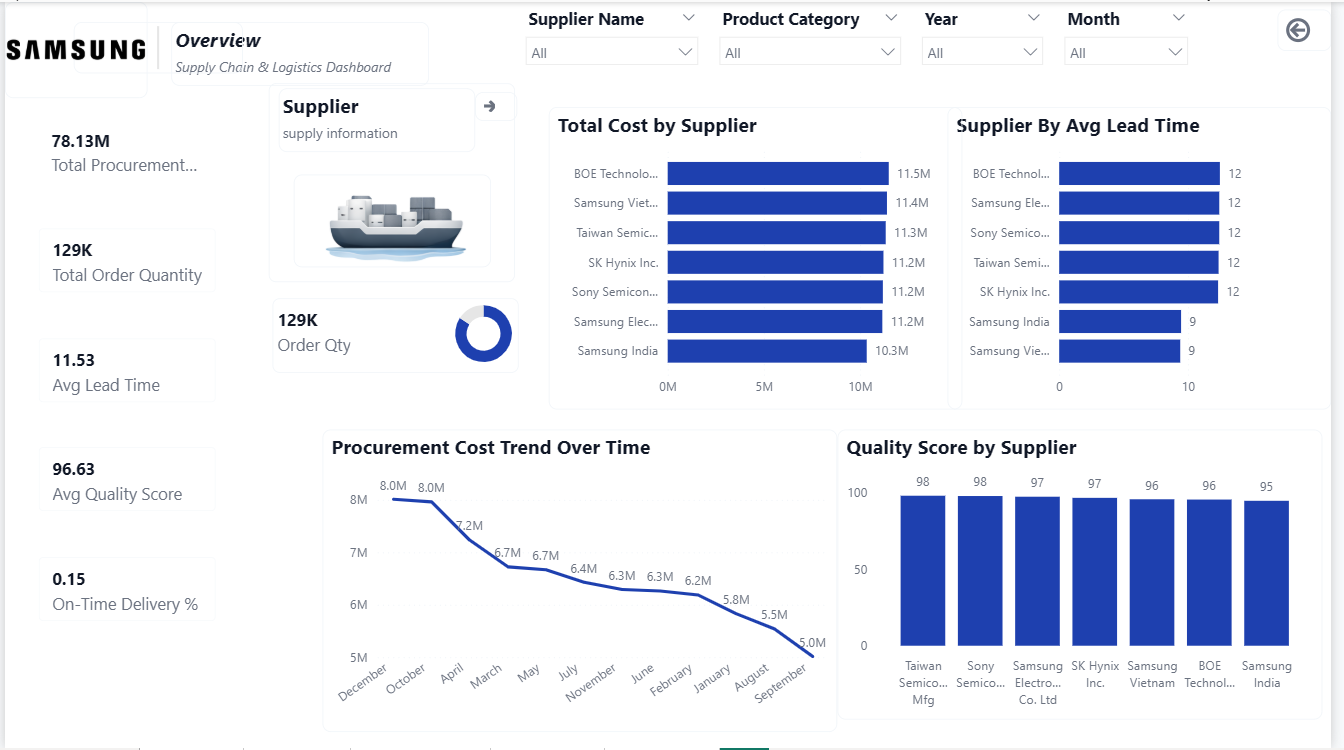

What the dashboard file says about the page in this screenshot:
{"tool":"powerbi","page":{"name":"Supplier","canvas":[1280,720],"ordinal":1},"visuals":[{"type":"shape","box":[254.6,78.4,237.7,191.8],"z":0},{"type":"image","box":[278.7,166.5,190.6,89.3],"z":1000},{"type":"actionButton","box":[453.6,86.9,41,27.7],"z":2000},{"type":"shape","title":"Supplier","box":[264.2,83.2,189.4,61.5],"z":3000},{"type":"shape","title":"Overview","box":[160.5,19.3,248.5,61.5],"z":4000},{"type":"shape","box":[66.4,19.3,162.9,49.5],"z":5000},{"type":"image","box":[0,0,137.5,92.9],"z":6000},{"type":"cardVisual","fields":{"Data":["Measures_Table.Total Order Quantity"]},"box":[15.7,202,205.1,96.5],"z":7000},{"type":"cardVisual","fields":{"Data":["Measures_Table.avg_lead_time"]},"box":[15.7,307.4,205.1,96.5],"z":8000},{"type":"cardVisual","fields":{"Data":["Measures_Table.Avg Quality Score"]},"box":[15.7,412.8,205.1,96.5],"z":9000},{"type":"cardVisual","fields":{"Data":["Measures_Table.On-Time Delivery %"]},"box":[15.7,518.3,205.1,96.5],"z":10000},{"type":"cardVisual","fields":{"Data":["Measures_Table.Total Procurement Cost"]},"box":[15.7,96.5,205.1,96.5],"z":11000},{"type":"shape","box":[257.9,285.4,237.7,72.4],"z":12000},{"type":"cardVisual","fields":{"Data":["Measures_Table.Order Qty"]},"box":[234,269,165.3,98.9],"z":13000},{"type":"clusteredBarChart","title":"Supplier By Avg Lead Time","fields":{"Y":["Measures_Table.avg_lead_time"],"Category":["dim_supplier.supplier_name"]},"box":[909.7,101.3,370.4,292],"z":14000},{"type":"clusteredBarChart","title":"Total Cost by Supplier","fields":{"Y":["Measures_Table.Total Procurement Cost"],"Category":["dim_supplier.supplier_name"]},"box":[524.8,101.3,399.3,292],"z":15000},{"type":"clusteredColumnChart","title":"Quality Score by Supplier","fields":{"Category":["dim_supplier.supplier_name"],"Y":["Measures_Table.Avg Quality Score"]},"box":[803.5,412.6,468.1,279.9],"z":16000},{"type":"lineChart","title":"Procurement Cost Trend Over Time","fields":{"Category":["dim_date.month_name"],"Y":["Measures_Table.Total Procurement Cost"]},"box":[306.4,412.6,497.1,292],"z":17000},{"type":"donutChart","fields":{"Y":["Measures_Table.Order Qty","Measures_Table.defect"]},"box":[399.3,281.1,125.5,78.4],"z":18000},{"type":"slicer","fields":{"Values":["dim_supplier.supplier_name"]},"box":[492.2,0,187,73.6],"z":19000},{"type":"slicer","fields":{"Values":["dim_product.category"]},"box":[679.2,0,195.4,73.6],"z":20000},{"type":"slicer","fields":{"Values":["dim_date.year"]},"box":[874.7,0,137.5,73.6],"z":21000},{"type":"slicer","fields":{"Values":["dim_date.month_name"]},"box":[1012.2,0,139.9,68.8],"z":22000},{"type":"actionButton","box":[1228.2,7.2,51.9,39.8],"z":23000}]}

Visuals, with their boxes in screenshot pixels (x1, y1, x2, y2), scaled from the page's 1280x720 canvas onto the 1344x750 screenshot:
shape: Rect(267, 82, 517, 281)
image: Rect(293, 173, 493, 266)
actionButton: Rect(476, 91, 519, 119)
"Supplier" shape: Rect(277, 87, 476, 151)
"Overview" shape: Rect(169, 20, 429, 84)
shape: Rect(70, 20, 241, 72)
image: Rect(0, 0, 144, 97)
cardVisual - Measures_Table.Total Order Quantity: Rect(16, 210, 232, 311)
cardVisual - Measures_Table.avg_lead_time: Rect(16, 320, 232, 421)
cardVisual - Measures_Table.Avg Quality Score: Rect(16, 430, 232, 531)
cardVisual - Measures_Table.On-Time Delivery %: Rect(16, 540, 232, 640)
cardVisual - Measures_Table.Total Procurement Cost: Rect(16, 101, 232, 201)
shape: Rect(271, 297, 520, 373)
cardVisual - Measures_Table.Order Qty: Rect(246, 280, 419, 383)
"Supplier By Avg Lead Time" clusteredBarChart: Rect(955, 106, 1343, 410)
"Total Cost by Supplier" clusteredBarChart: Rect(551, 106, 970, 410)
"Quality Score by Supplier" clusteredColumnChart: Rect(844, 430, 1335, 721)
"Procurement Cost Trend Over Time" lineChart: Rect(322, 430, 844, 734)
donutChart - Measures_Table.Order Qty x Measures_Table.defect: Rect(419, 293, 551, 374)
slicer - dim_supplier.supplier_name: Rect(517, 0, 713, 77)
slicer - dim_product.category: Rect(713, 0, 918, 77)
slicer - dim_date.year: Rect(918, 0, 1063, 77)
slicer - dim_date.month_name: Rect(1063, 0, 1210, 72)
actionButton: Rect(1290, 8, 1343, 49)
